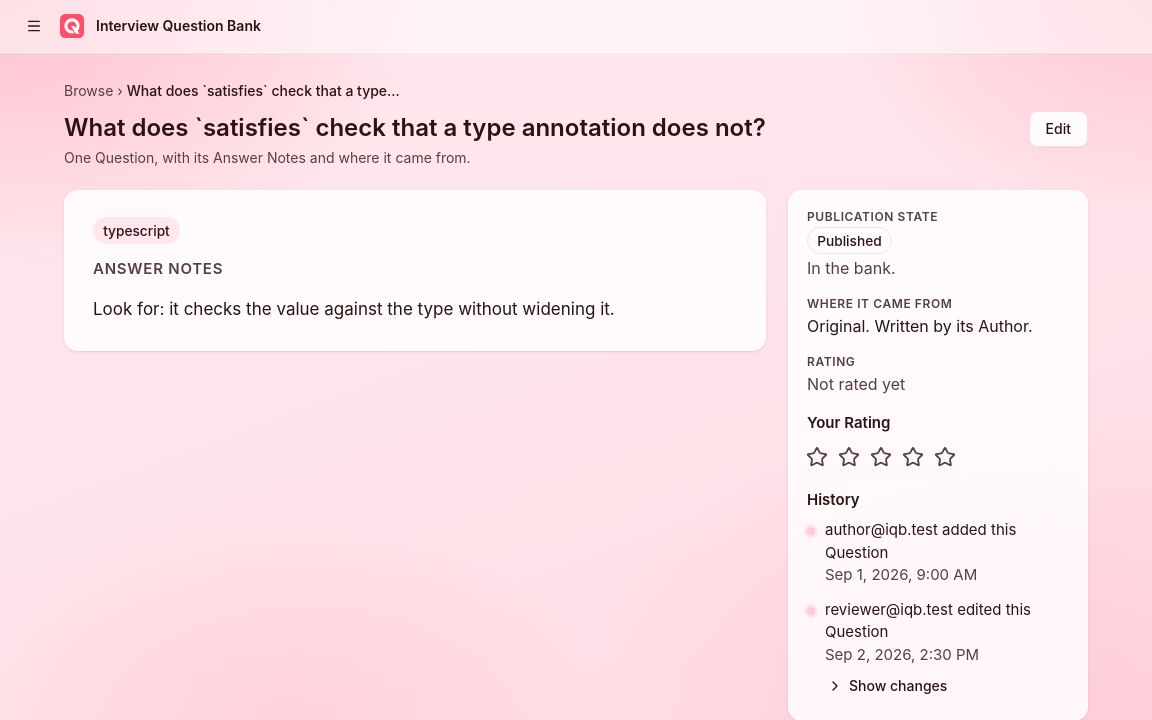
it: a Question's history › says what an edit changed, as it was and as it became, after the addition
The width and height of the screenshot is (1152, 720).
Expected: the list item that starts with "author@iqb.test" shows "author@iqb.test added this Question", left=807, top=520, right=1016, bottom=584
Expected: the list item that starts with "reviewer@iqb.test" shows "reviewer@iqb.test edited this Question", left=807, top=599, right=1069, bottom=702
Step 1. Click the button "Show changes" → (887,686), box left=817, top=670, right=957, bottom=702
(page scrolled)
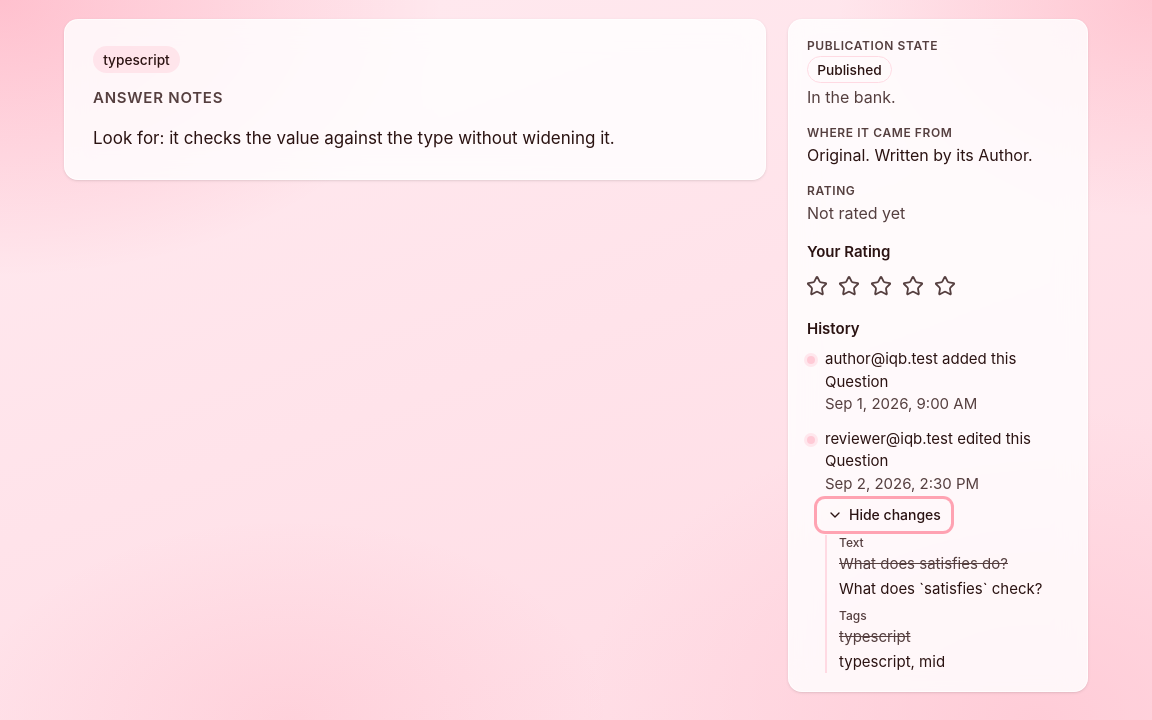
Now the button "Hide changes" is expanded, box left=817, top=499, right=951, bottom=531
Now the text "What does satisfies do?" is shown, box left=839, top=554, right=1008, bottom=573
Now the text "What does `satisfies` check?" is shown, box left=839, top=578, right=1069, bottom=600
